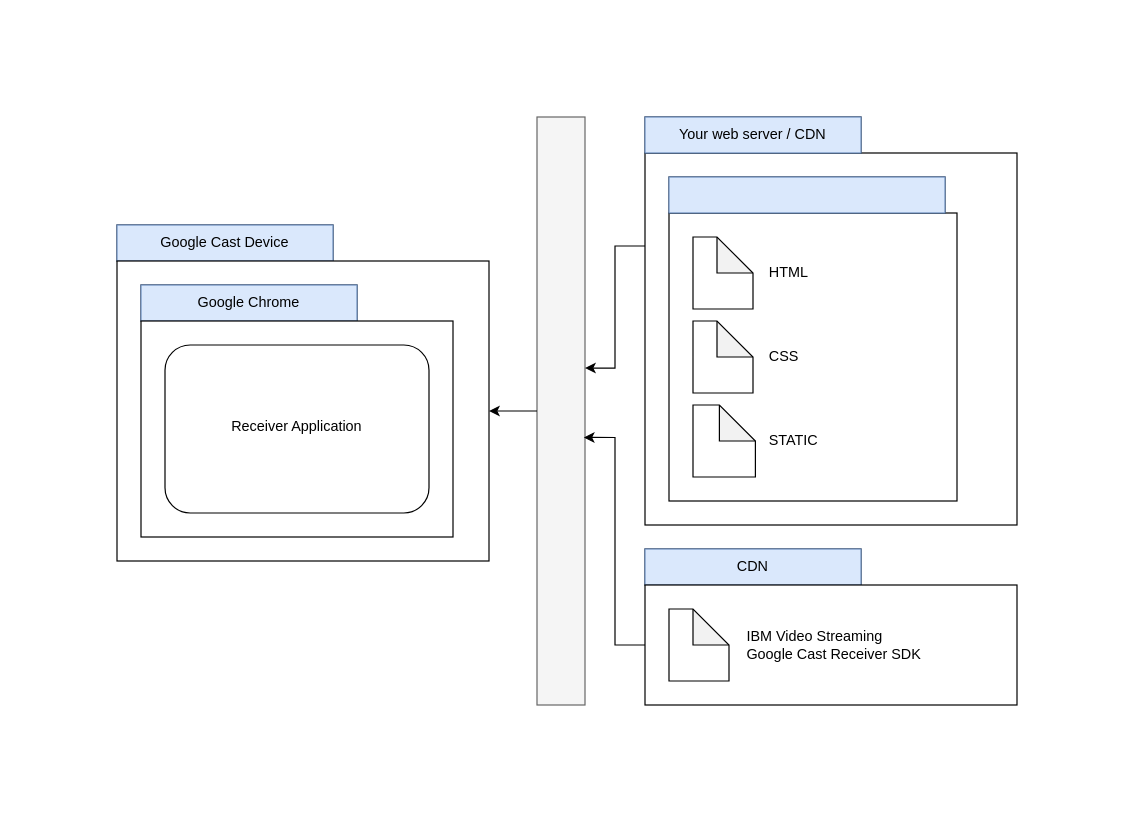
Image size: 1133x821. Some labels were removed from this diagram. The box of each missing label's shape, as (x1, y1, x2, y2) in pixels:
Cast Receiver reference implementation: (668, 176, 945, 213)
NETWORK: (536, 116, 585, 705)
